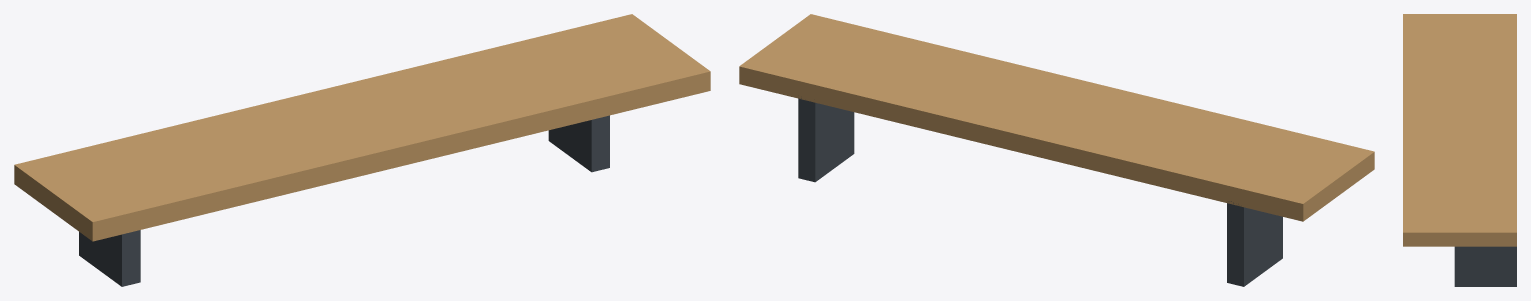
Rendered from GH_Shelf_Wall_01.glb.
The picture shows the model from 3 angles, left to right: view 1: azimuth 30°, elevation 25°; view 2: azimuth 150°, elevation 25°; view 3: azimuth 270°, elevation 25°; orthographic projection. The views are drawn at different scales.
Parts seen in each view (by area): view 1: GH_Shelf_Wall_01; view 2: GH_Shelf_Wall_01; view 3: GH_Shelf_Wall_01.
Boxes of the visible parts, bbox=[...] form: GH_Shelf_Wall_01: bbox=[14, 14, 710, 286]; GH_Shelf_Wall_01: bbox=[739, 14, 1374, 286]; GH_Shelf_Wall_01: bbox=[1403, 14, 1516, 286].
Bounding box in the file's own units: 1 × 0.165 × 0.22.
Materials: 1 (1 with a texture image).
